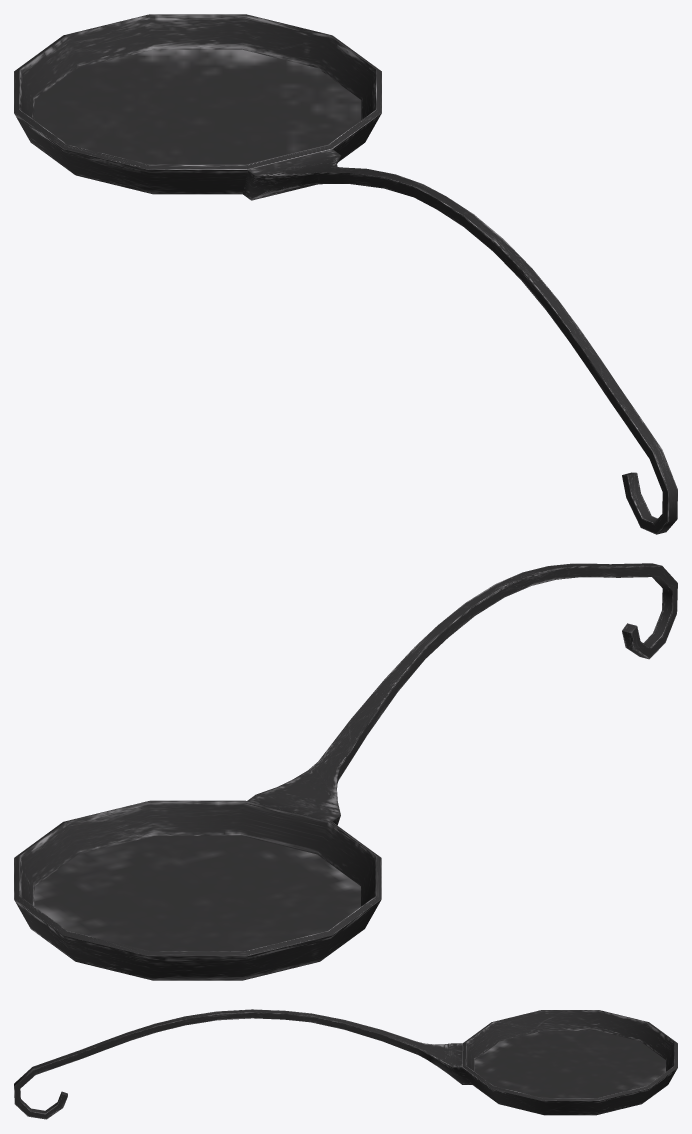
The model's file is frying_pan.glb.
The picture shows the model from 3 angles, top to bottom: view 1: azimuth 30°, elevation 25°; view 2: azimuth 150°, elevation 25°; view 3: azimuth 270°, elevation 25°; orthographic projection. The views are drawn at different scales.
Visible parts, largest first — view 1: Object_32; view 2: Object_32; view 3: Object_32.
Boxes of the visible parts, left/top/right/bottom form: Object_32: left=14, top=14, right=677, bottom=534; Object_32: left=14, top=563, right=677, bottom=980; Object_32: left=14, top=1009, right=677, bottom=1119.
Bounding box in the file's own units: 0.1947 × 0.1067 × 0.6002.
1 material, 1 textured.
